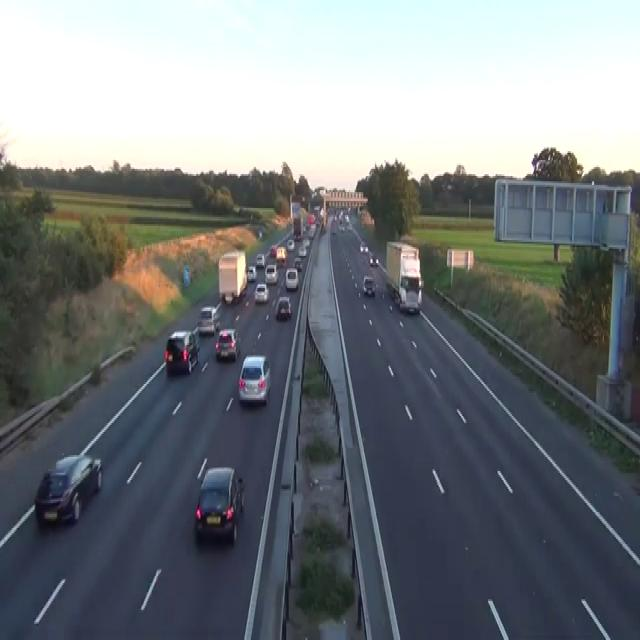Car: (33, 454, 102, 526), (194, 466, 244, 544), (237, 354, 270, 404), (164, 329, 199, 373), (214, 327, 240, 361), (197, 304, 220, 334), (399, 290, 420, 313), (275, 295, 291, 320), (386, 281, 400, 307), (285, 266, 298, 290), (254, 283, 269, 302), (264, 263, 278, 283), (362, 276, 375, 295), (191, 325, 200, 352), (275, 245, 286, 267), (391, 286, 400, 308), (247, 265, 256, 281), (255, 252, 265, 266), (369, 254, 378, 267), (269, 244, 277, 258), (294, 256, 302, 270), (359, 240, 368, 252), (286, 238, 294, 251), (298, 244, 306, 256), (307, 213, 315, 224), (331, 219, 337, 233), (308, 226, 315, 238), (386, 281, 393, 293), (294, 229, 301, 240), (232, 204, 240, 213), (302, 238, 309, 247), (321, 222, 326, 233), (344, 213, 349, 224), (338, 222, 344, 231), (346, 222, 352, 231), (313, 204, 319, 212), (258, 228, 262, 238), (369, 256, 373, 265), (302, 224, 307, 231)
Truck: (385, 240, 423, 313), (218, 249, 247, 304), (291, 199, 302, 240)
